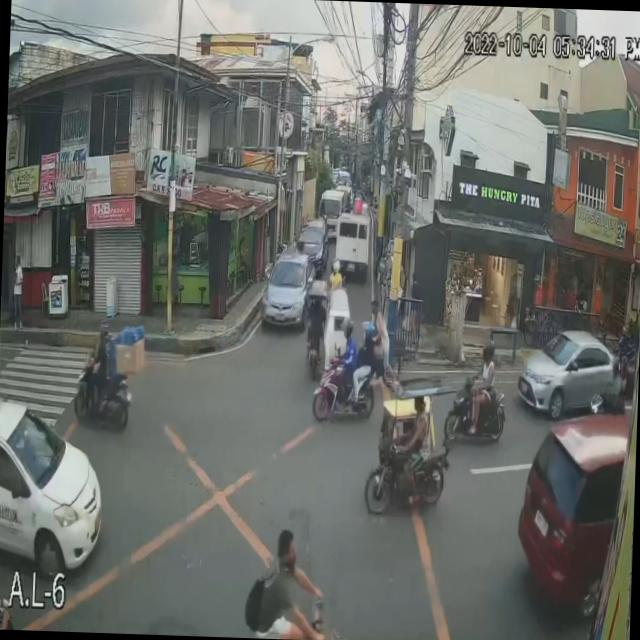half: (340, 316, 354, 342), (362, 320, 376, 342)
